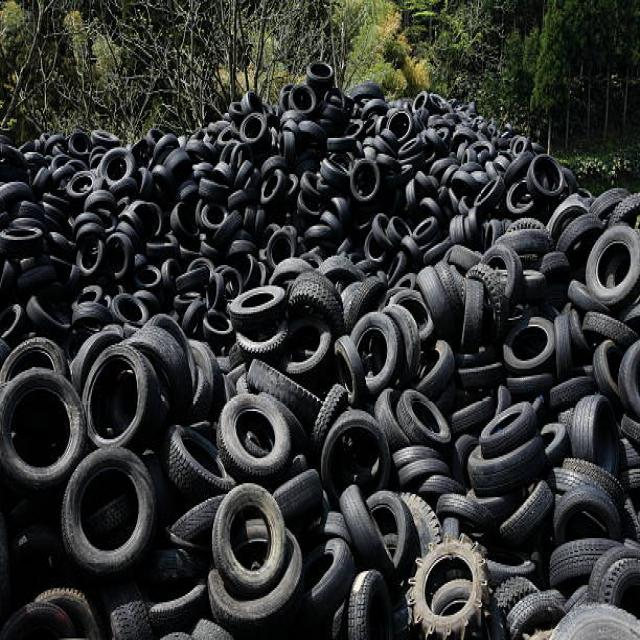plastic: (5, 126, 631, 596)
